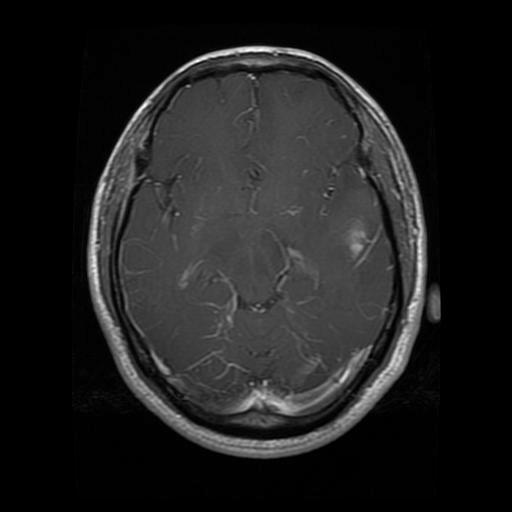Tumour-Glioma: (322, 215, 394, 277)
